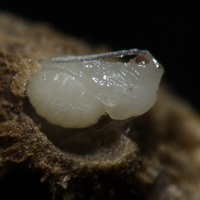insect: (27, 49, 163, 127)
